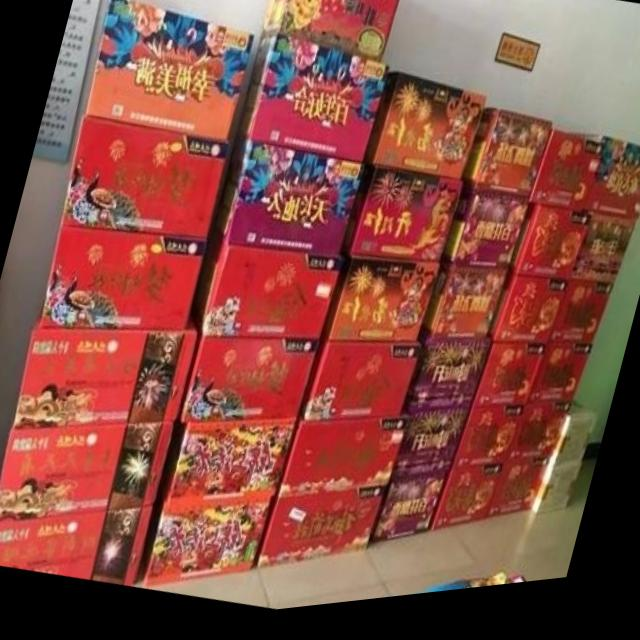box: (83, 0, 255, 144), (7, 309, 198, 428), (59, 115, 231, 243), (234, 41, 388, 170), (211, 141, 366, 264), (36, 223, 208, 332), (192, 236, 340, 347), (0, 427, 176, 520), (363, 80, 489, 190), (177, 338, 320, 427), (342, 169, 463, 271), (140, 497, 275, 587), (0, 509, 155, 586), (321, 258, 440, 351), (157, 425, 296, 504), (299, 339, 422, 426), (253, 492, 387, 571), (262, 0, 403, 69), (278, 423, 402, 497), (461, 116, 555, 212), (441, 193, 529, 281), (419, 271, 508, 352), (402, 349, 494, 419), (528, 139, 602, 224), (508, 214, 586, 294), (488, 281, 569, 355), (370, 477, 451, 549), (390, 417, 470, 486), (429, 473, 506, 537), (569, 226, 638, 297), (471, 353, 546, 417), (586, 148, 640, 234), (451, 417, 524, 477), (546, 294, 615, 356), (526, 355, 594, 417), (506, 416, 568, 472), (488, 473, 548, 526), (547, 414, 597, 475), (530, 474, 582, 526)
